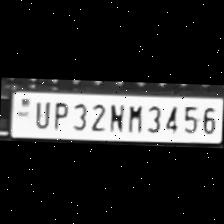2: (87, 99, 107, 130)
3: (68, 98, 88, 130), (142, 102, 162, 133)
4: (160, 102, 180, 132)
5: (178, 102, 198, 132)
6: (198, 103, 218, 134)
H: (105, 99, 124, 131)
M: (124, 102, 144, 132)
P: (48, 97, 68, 129)
U: (29, 96, 49, 128)
